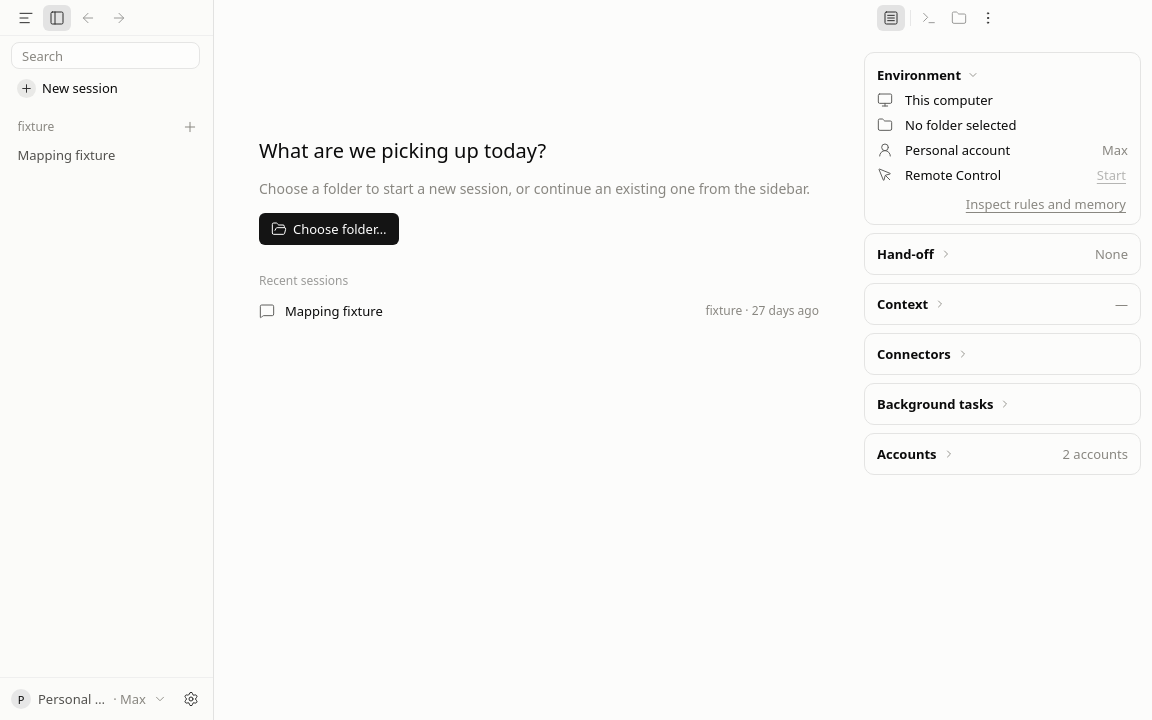
Test: transcript mapping › renders user bubbles and assistant markdown without raw HTML
The width and height of the screenshot is (1152, 720).
What coordinates should you click on to do the following:
click the button "Mapping fixture"
I would click on:
 (106, 155)
Its box is [7, 141, 206, 169].
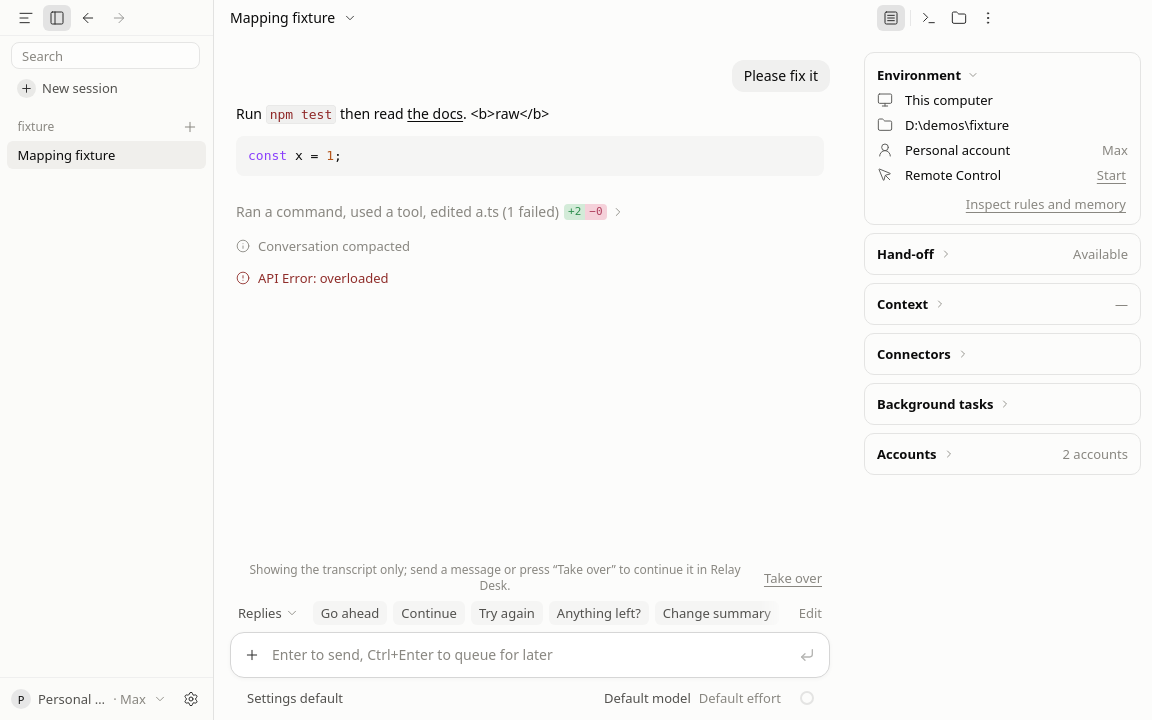
expect the element with test id "assistant-message" is shown: met, box [230, 104, 830, 188]
expect the element with test id "user-message" reads "Please fix it": met, box [744, 66, 818, 85]
expect the element with class "language-ts" is shown: met, box [248, 148, 342, 163]
